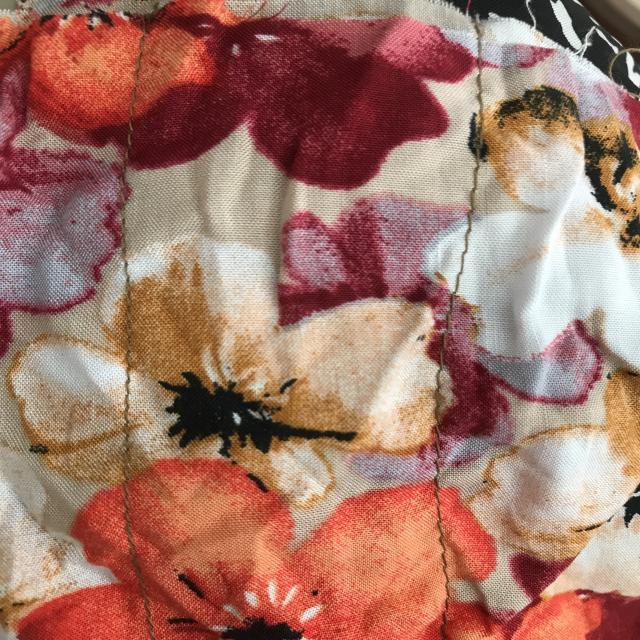good: (413, 472, 463, 608), (464, 164, 484, 262)
